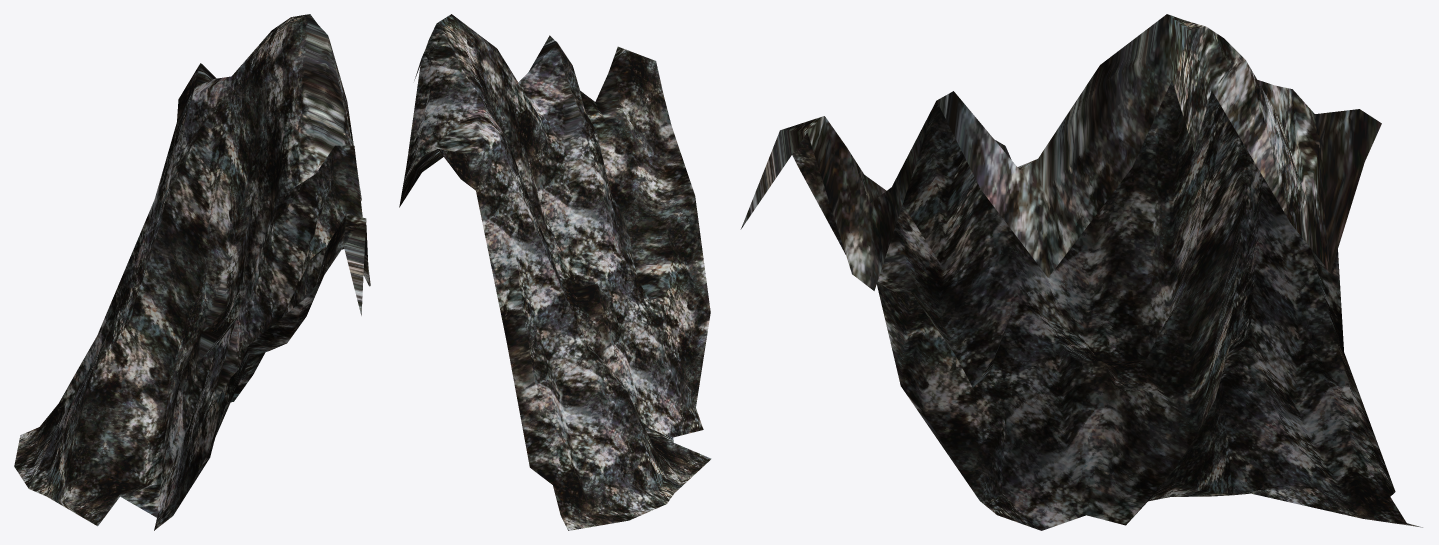
The model's file is OVERHILL_A_01_OBJECT376.fbx.
3 views of the same model, side by side, from view 1: azimuth 30°, elevation 25°; view 2: azimuth 150°, elevation 25°; view 3: azimuth 270°, elevation 25° (orthographic). The views are drawn at different scales.
Parts seen in each view (by area): view 1: OVERHILL_A_01_OBJECT376; view 2: OVERHILL_A_01_OBJECT376; view 3: OVERHILL_A_01_OBJECT376.
Boxes of the visible parts, x1,y1,x2,y2 form: OVERHILL_A_01_OBJECT376: (14, 14, 370, 530); OVERHILL_A_01_OBJECT376: (399, 14, 711, 530); OVERHILL_A_01_OBJECT376: (740, 14, 1422, 530).
Bounding box in the file's own units: 232578 × 338849 × 312727.
Materials: 1 (1 with a texture image).
